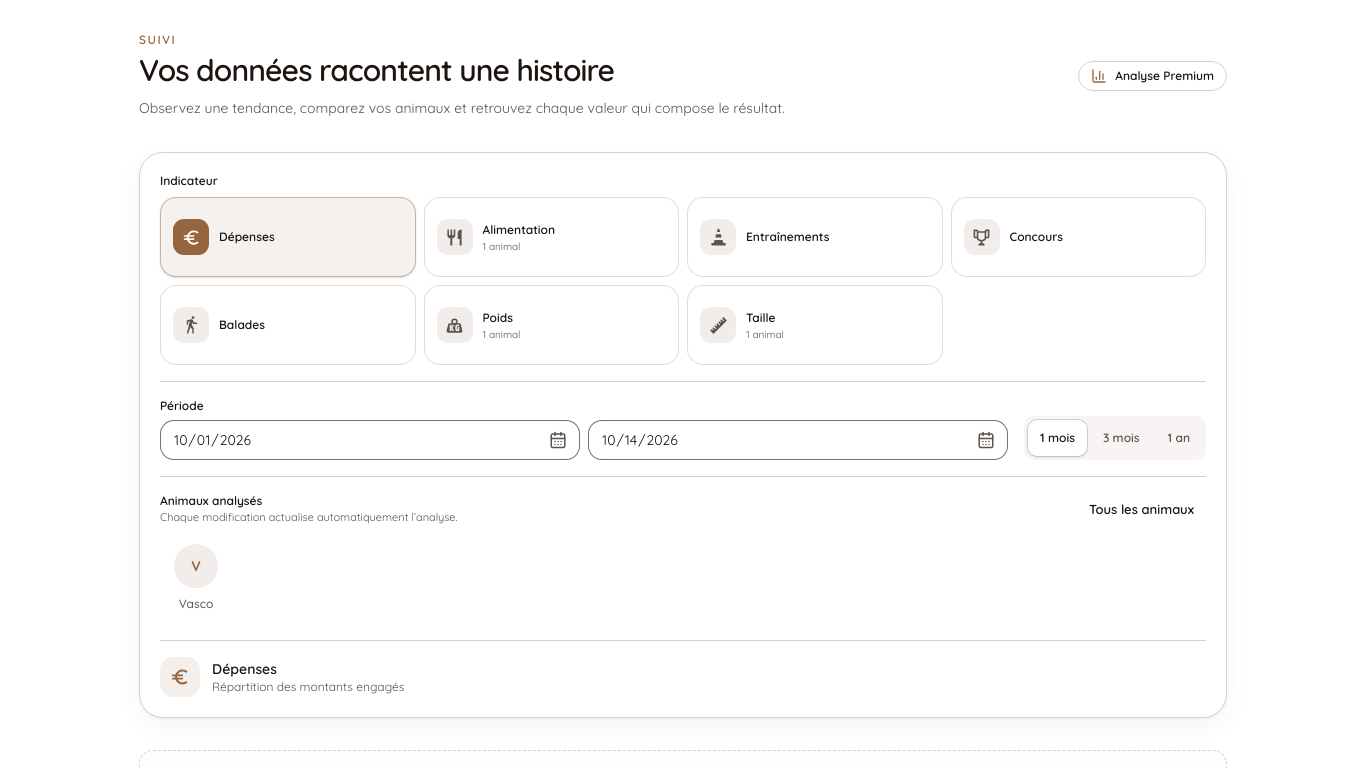
Test: StatisticsContent › reprend le suivi alimentaire mobile avec une courbe et deux historiques
Click the button "V Vasco". click: [196, 576]
box: [164,538,228,616]
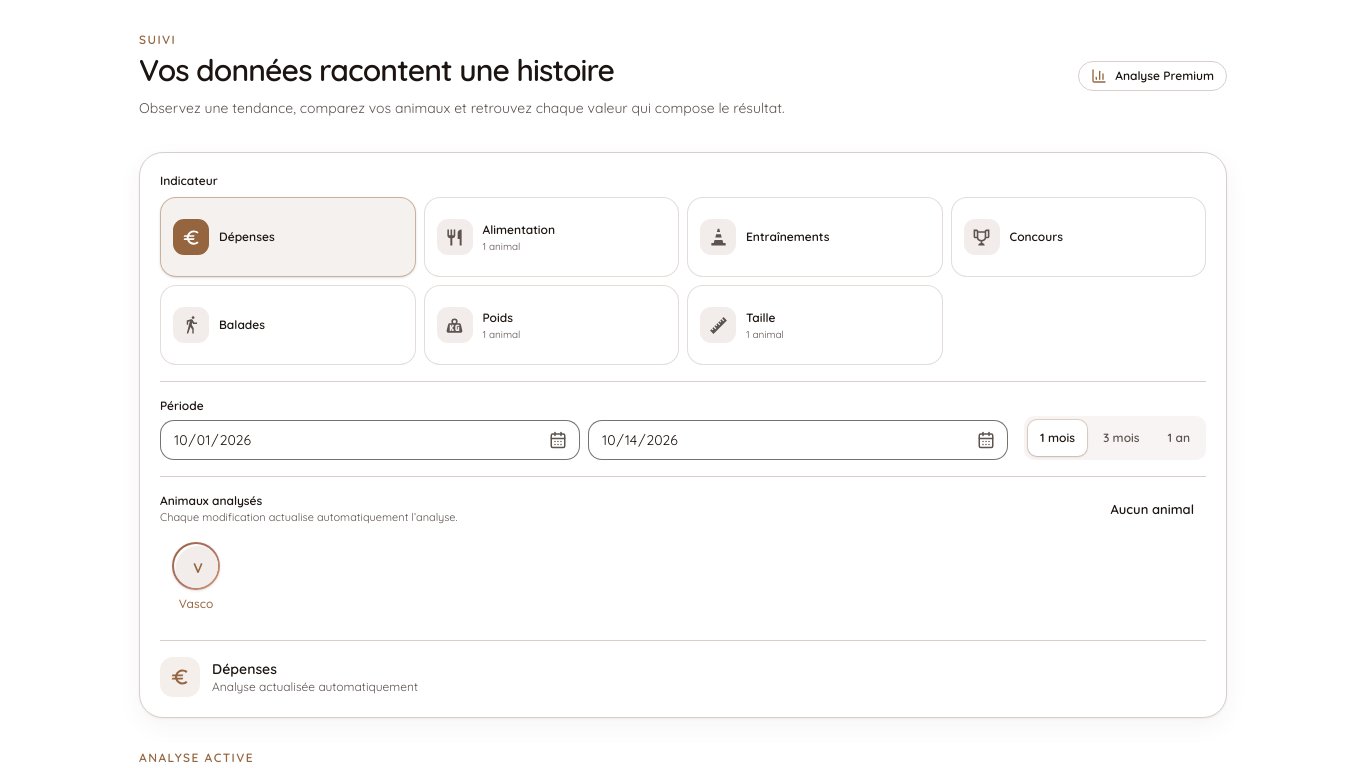
Click the tab "Alimentation 1 animal". click: [551, 237]
box: [424,197,679,277]
(page scrolled)
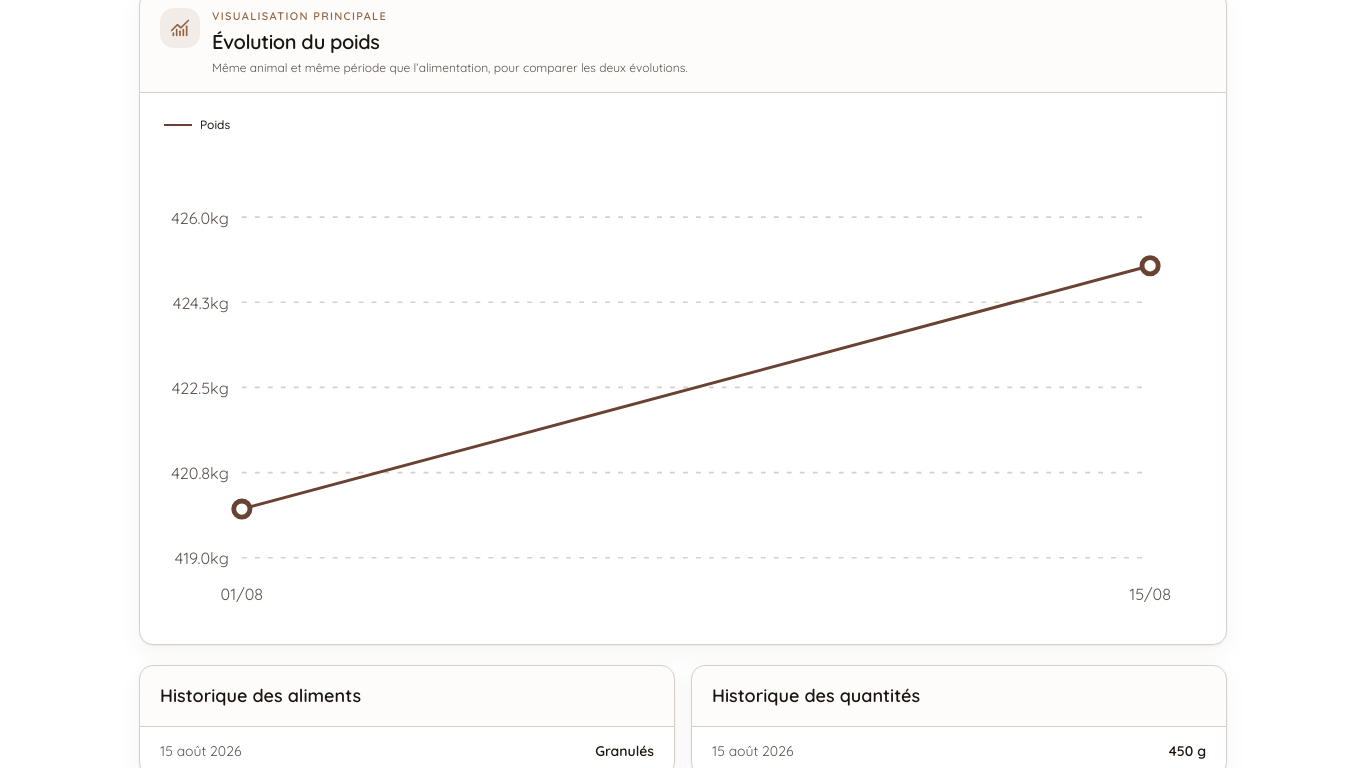
Result: the heading "Historique des aliments" is shown at [160,684,361,707]
Result: the heading "Historique des quantités" is shown at [712,684,920,707]
Result: the text "Granulés" is shown at [595,741,654,761]
